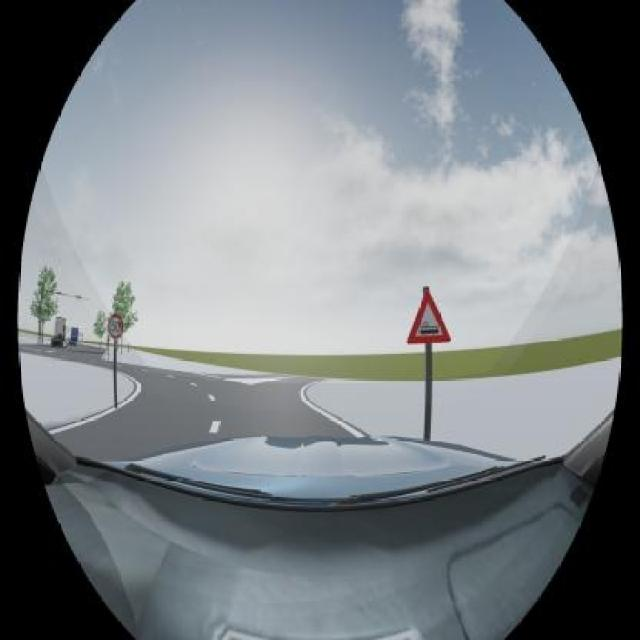forb_speed_over_50: (109, 314, 123, 340)
